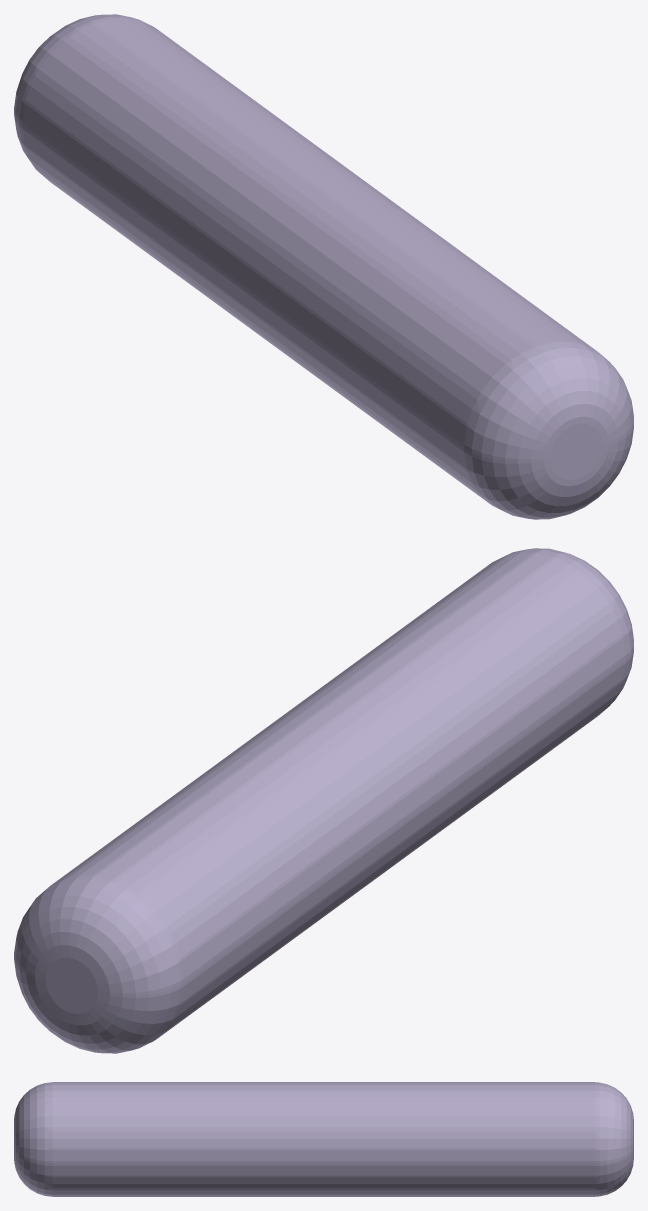
Rendered from spindle_shaft.glb.
3 views of the same model, one above another, from view 1: azimuth 30°, elevation 25°; view 2: azimuth 150°, elevation 25°; view 3: azimuth 270°, elevation 25° (orthographic). The views are drawn at different scales.
Visible parts, largest first — view 1: Node1; view 2: Node1; view 3: Node1.
Boxes of the visible parts, x1,y1,x2,y2 form: Node1: [14, 14, 633, 519]; Node1: [14, 548, 633, 1053]; Node1: [14, 1082, 633, 1196].
Bounding box in the file's own units: 14.8 × 14.72 × 80.
